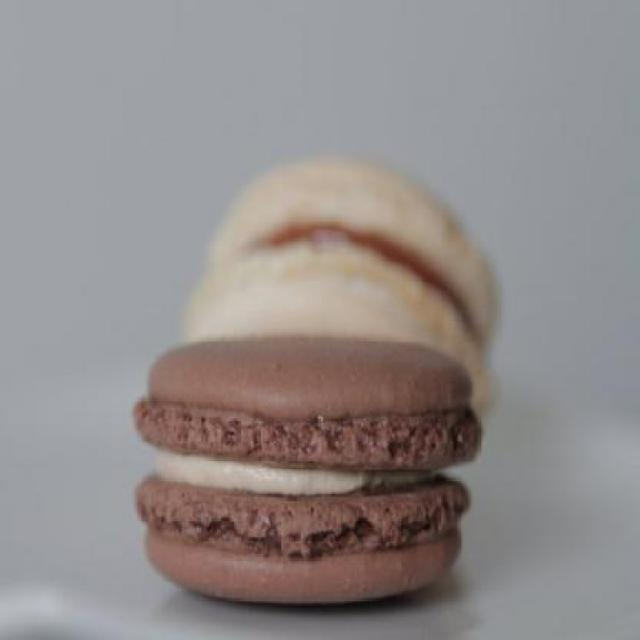Macaron: (138, 150, 486, 614)
